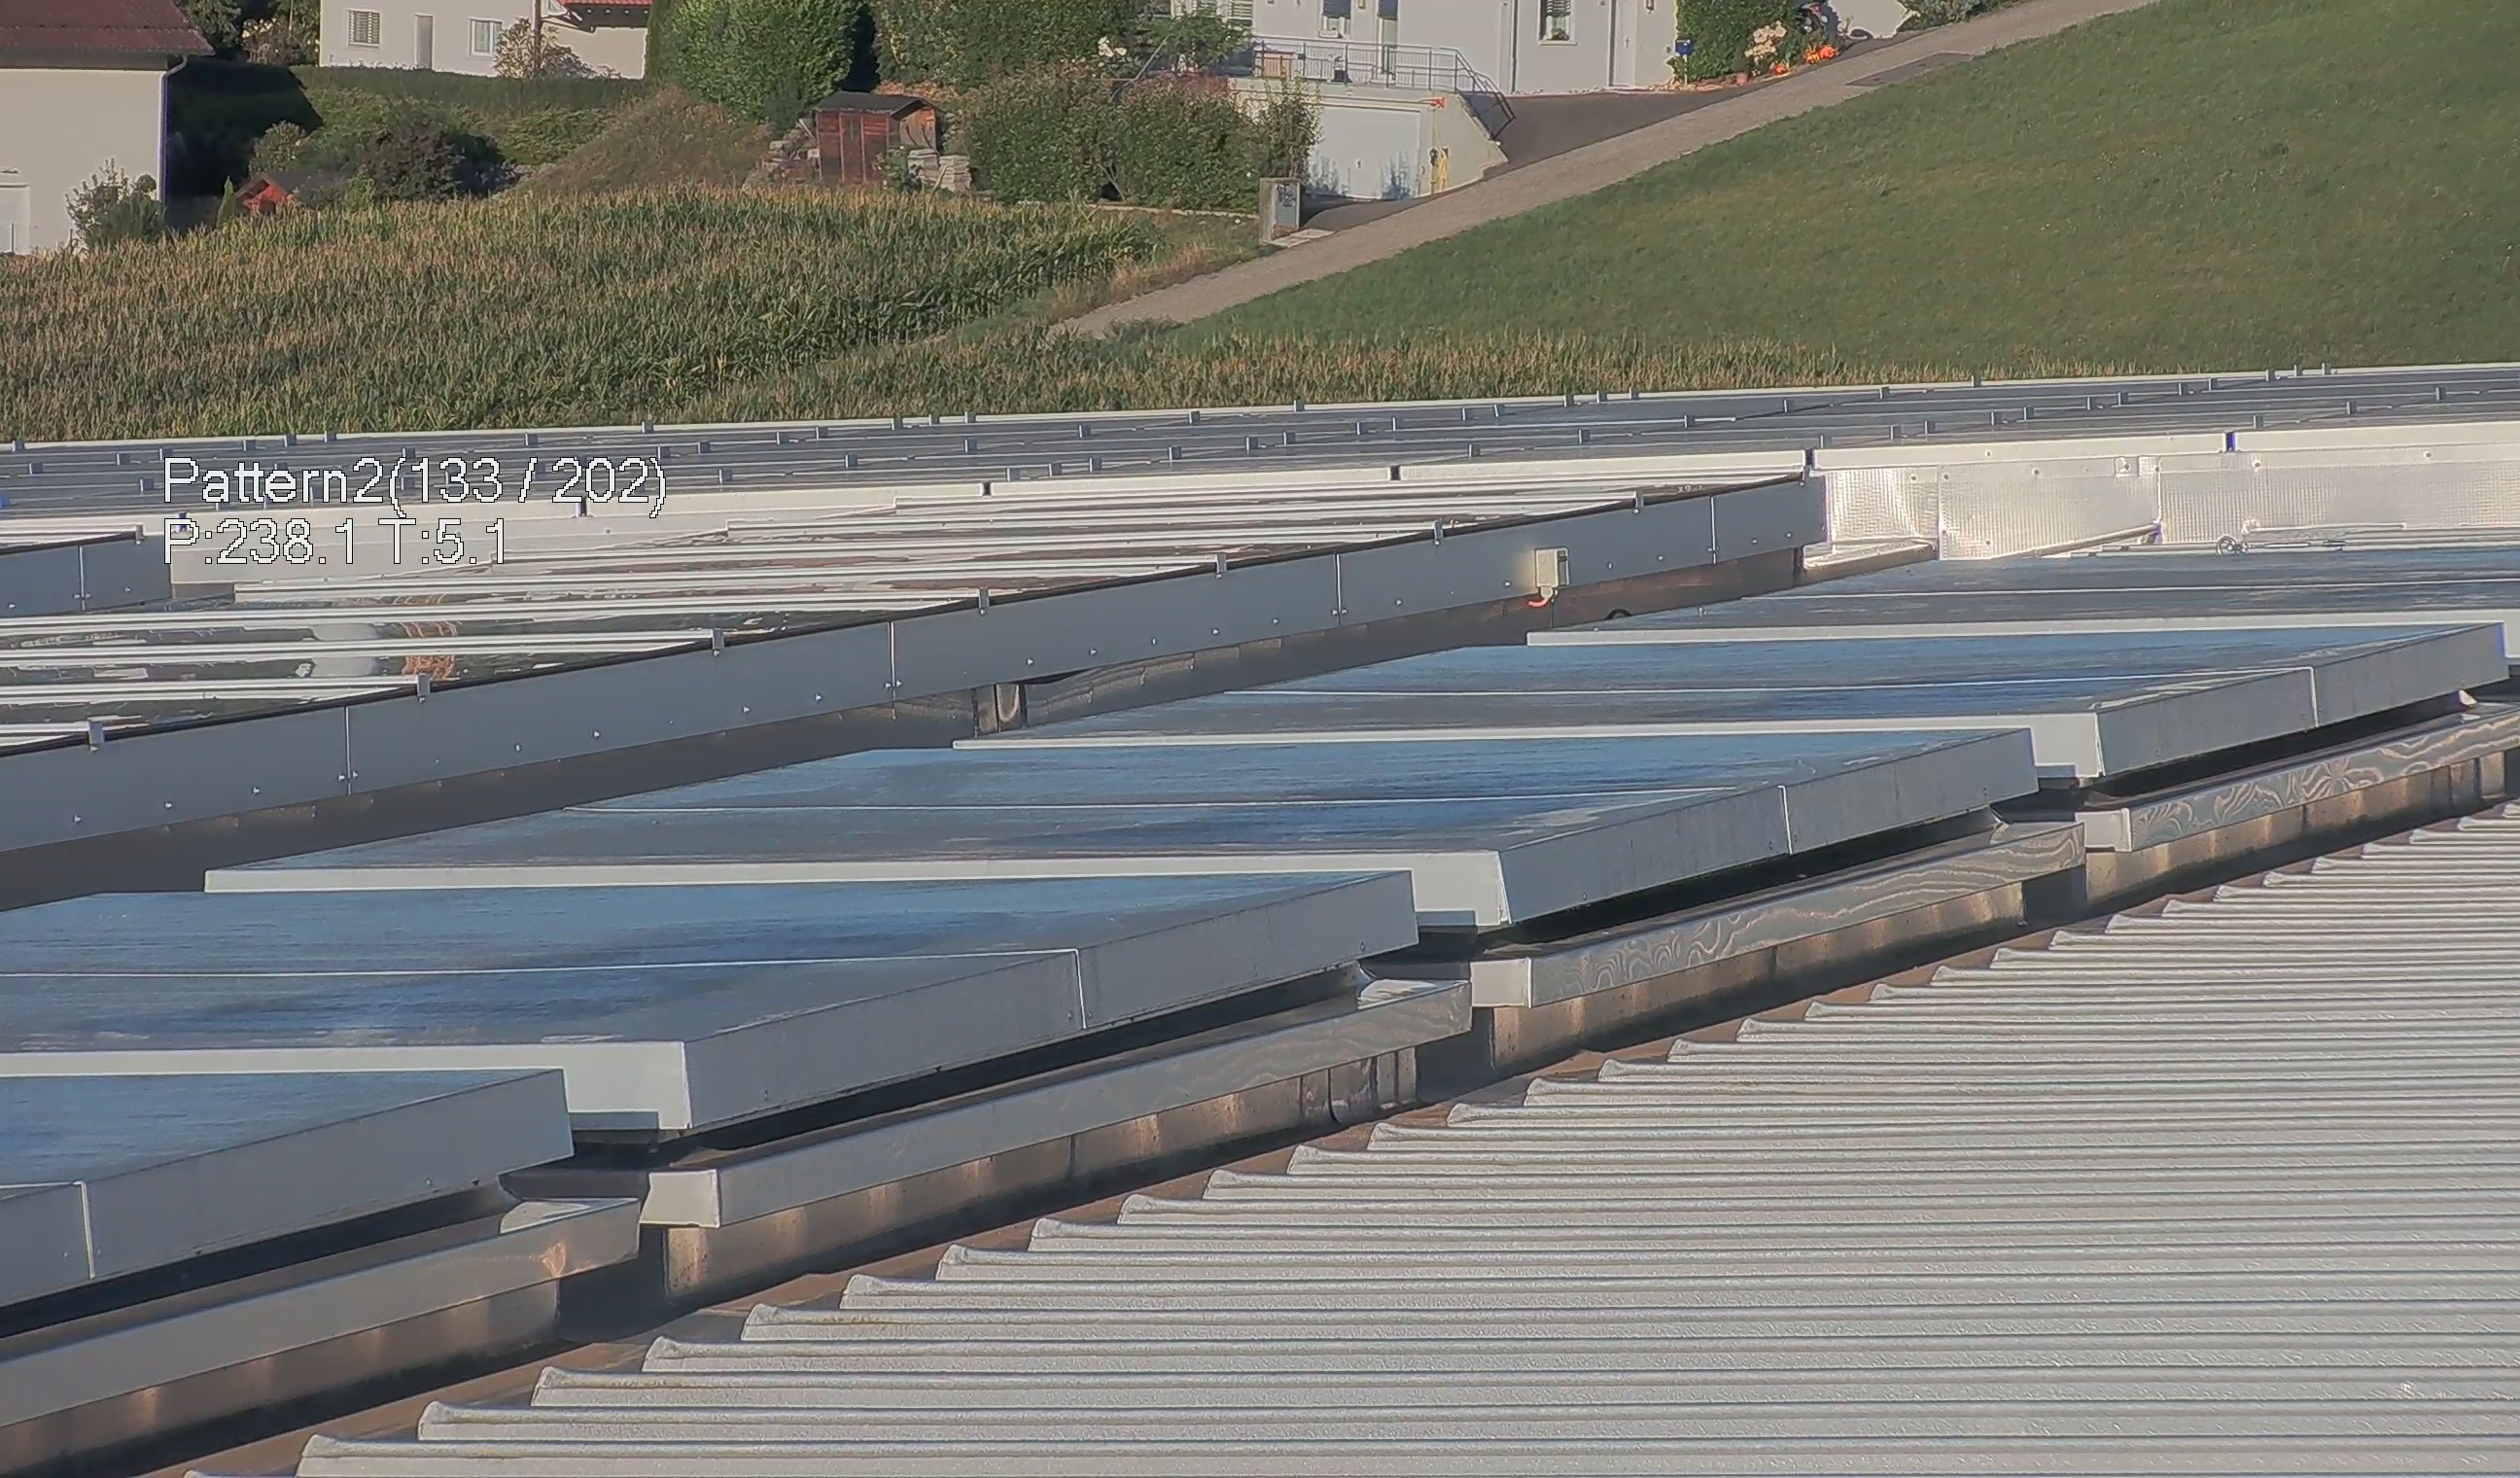Other: (155, 23, 329, 234)
